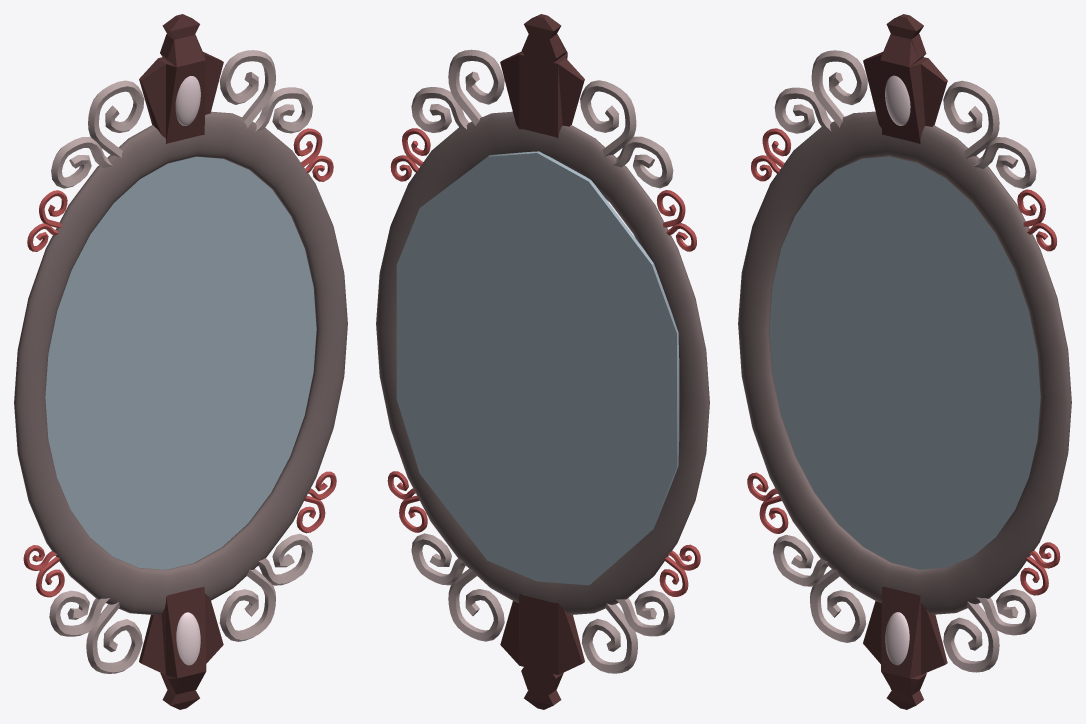
Rendered from Mirror_Frame.fbx.
The picture shows the model from 3 angles, left to right: view 1: azimuth 30°, elevation 25°; view 2: azimuth 150°, elevation 25°; view 3: azimuth 330°, elevation 25°; orthographic projection.
Parts seen in each view (by area): view 1: Mirror_Glass, Main_Body, Top_Detail, Bottom_Detail, Top_CurveR1, Bottom_CurveL1, Top_CurveL1, Bottom_CurveR1, Bottom_CurveL2, Top_CurveL2, Bottom_RoundDetail, Top_CurveR2 (+2 smaller); view 2: Mirror_Glass, Main_Body, Top_Detail, Bottom_Detail, Top_CurveR1, Top_CurveL1, Bottom_CurveL1, Bottom_CurveR1, Bottom_CurveL2, Top_CurveR2, Top_CurveL2, Bottom_CurveR2; view 3: Mirror_Glass, Main_Body, Top_Detail, Bottom_Detail, Top_CurveL1, Top_CurveR1, Bottom_CurveR1, Bottom_CurveL1, Bottom_CurveR2, Top_CurveL2, Bottom_RoundDetail, Bottom_CurveL2 (+2 smaller).
Part boxes in pixels (left/top/right/bottom): Mirror_Glass: left=45, top=156, right=316, bottom=569; Main_Body: left=14, top=111, right=347, bottom=614; Top_Detail: left=139, top=14, right=223, bottom=143; Bottom_Detail: left=139, top=586, right=223, bottom=709; Top_CurveR1: left=219, top=50, right=312, bottom=133; Bottom_CurveL1: left=49, top=590, right=142, bottom=673; Top_CurveL1: left=51, top=80, right=144, bottom=188; Bottom_CurveR1: left=219, top=533, right=312, bottom=641; Bottom_CurveL2: left=23, top=545, right=64, bottom=597; Top_CurveL2: left=27, top=190, right=67, bottom=251; Bottom_RoundDetail: left=176, top=612, right=200, bottom=665; Top_CurveR2: left=293, top=128, right=333, bottom=181; Mirror_Glass: left=396, top=151, right=679, bottom=585; Main_Body: left=376, top=111, right=709, bottom=614; Top_Detail: left=500, top=14, right=584, bottom=138; Bottom_Detail: left=500, top=593, right=584, bottom=709; Top_CurveR1: left=411, top=49, right=504, bottom=132; Top_CurveL1: left=580, top=80, right=673, bottom=188; Bottom_CurveL1: left=581, top=590, right=674, bottom=673; Bottom_CurveR1: left=411, top=533, right=504, bottom=641; Bottom_CurveL2: left=659, top=544, right=700, bottom=596; Top_CurveR2: left=390, top=128, right=430, bottom=181; Top_CurveL2: left=657, top=190, right=696, bottom=251; Bottom_CurveR2: left=387, top=471, right=427, bottom=532; Mirror_Glass: left=769, top=156, right=1040, bottom=569; Main_Body: left=738, top=111, right=1071, bottom=614; Top_Detail: left=863, top=14, right=947, bottom=143; Bottom_Detail: left=863, top=586, right=947, bottom=709; Top_CurveL1: left=774, top=50, right=867, bottom=133; Top_CurveR1: left=943, top=80, right=1036, bottom=188; Bottom_CurveR1: left=943, top=589, right=1036, bottom=672; Bottom_CurveL1: left=773, top=534, right=866, bottom=642; Bottom_CurveR2: left=1020, top=542, right=1060, bottom=595; Top_CurveL2: left=751, top=128, right=790, bottom=181; Bottom_RoundDetail: left=885, top=612, right=909, bottom=665; Bottom_CurveL2: left=747, top=472, right=788, bottom=533.
Bounding box in the file's own units: 18.48 × 36.7 × 1.54.
